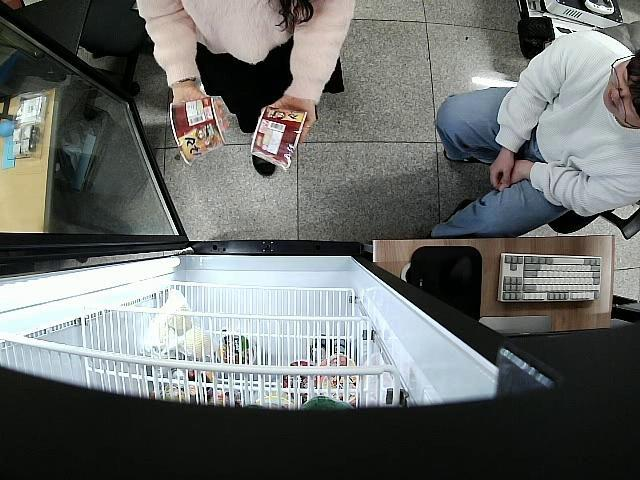05_nuguri_L: (167, 96, 225, 165), (250, 105, 306, 171)
